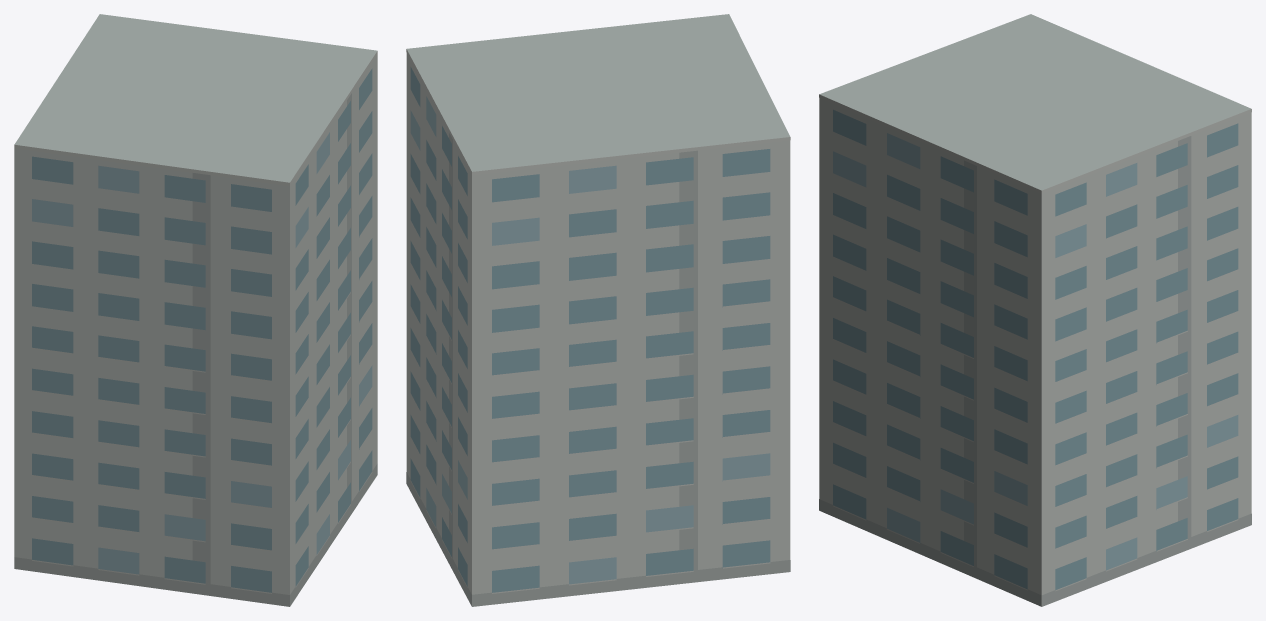
The model's file is residential-fdf9a497-d2b0-4d18-b1e9-f8c9bf304cda.glb.
3 views of the same model, side by side, from view 1: azimuth 30°, elevation 25°; view 2: azimuth 150°, elevation 25°; view 3: azimuth 270°, elevation 25° (orthographic). The views are drawn at different scales.
Parts seen in each view (by area): view 1: residential-fdf9a497-d2b0-4d18-b1e9-f8c9bf304cda.tmp; view 2: residential-fdf9a497-d2b0-4d18-b1e9-f8c9bf304cda.tmp; view 3: residential-fdf9a497-d2b0-4d18-b1e9-f8c9bf304cda.tmp.
Boxes of the visible parts, x1,y1,x2,y2 form: residential-fdf9a497-d2b0-4d18-b1e9-f8c9bf304cda.tmp: [14, 14, 377, 606]; residential-fdf9a497-d2b0-4d18-b1e9-f8c9bf304cda.tmp: [406, 14, 790, 606]; residential-fdf9a497-d2b0-4d18-b1e9-f8c9bf304cda.tmp: [819, 14, 1251, 606].
Size of the model in its own units: 27.31 by 30 by 28.26.
